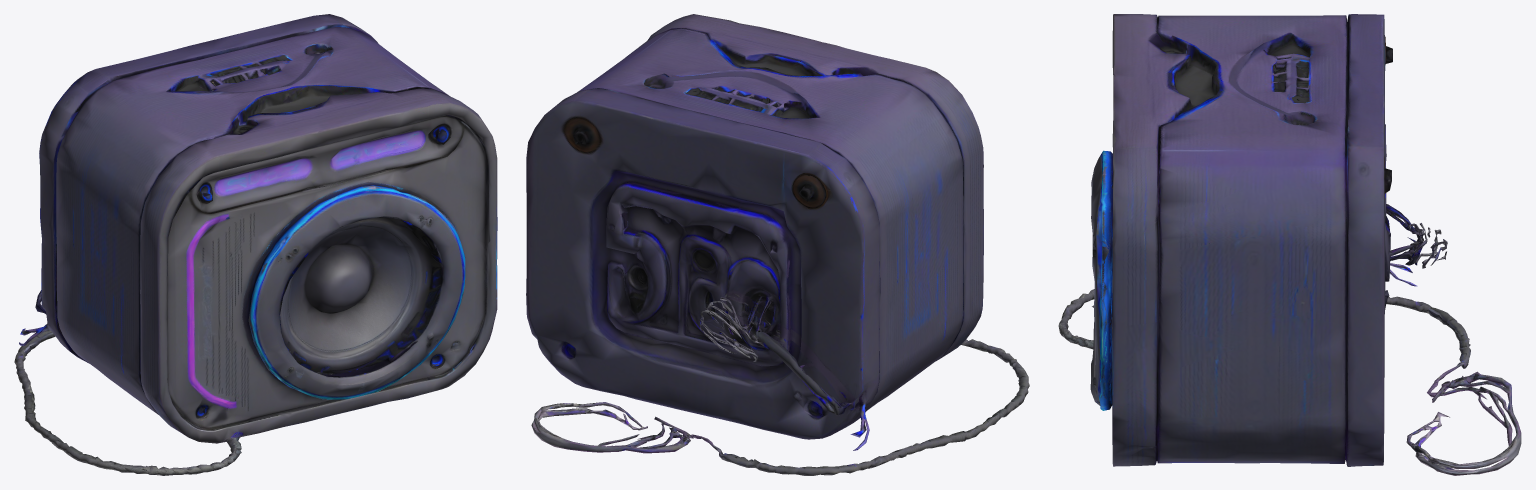
Rendered from speaker.glb.
The picture shows the model from 3 angles, left to right: view 1: azimuth 30°, elevation 25°; view 2: azimuth 150°, elevation 25°; view 3: azimuth 270°, elevation 25°; orthographic projection. The views are drawn at different scales.
Bounding box in the file's own units: 2 × 1.42 × 1.77.
1 material, 1 textured.
